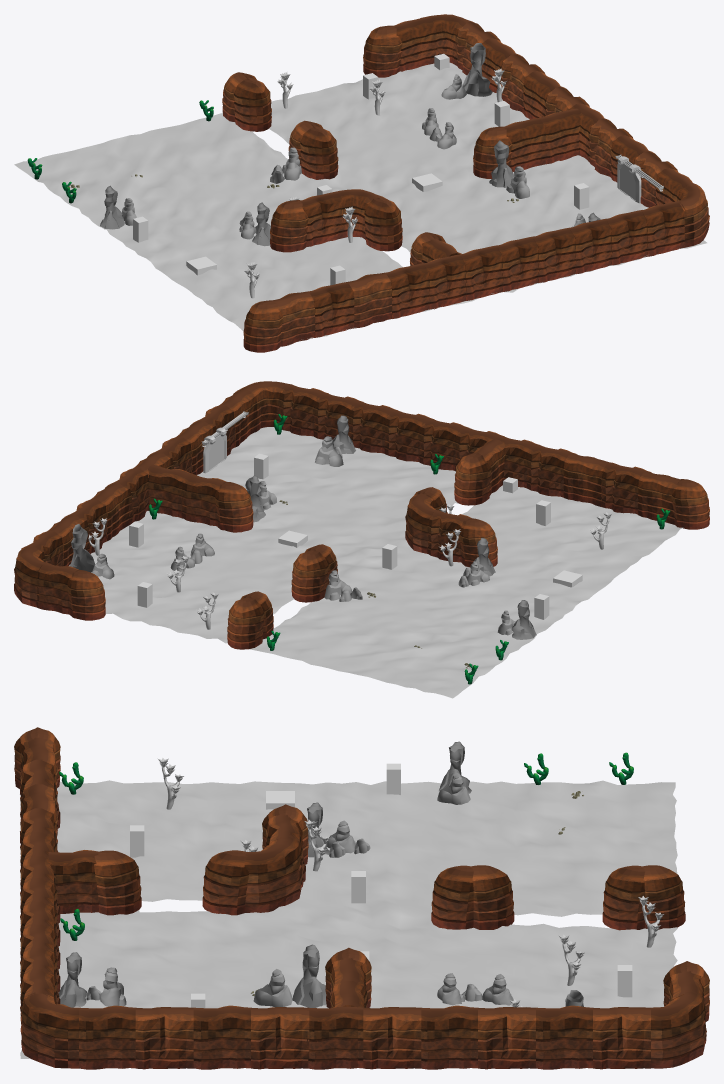
Rendered from Level1_Room1_Collapsed_2.fbx.
3 renders of one model, top to bottom at view 1: azimuth 30°, elevation 25°; view 2: azimuth 150°, elevation 25°; view 3: azimuth 270°, elevation 25°, orthographic. The views are drawn at different scales.
Visible parts, largest first — view 1: Plane074, level1_wall004, ColumnRock, GigaRock, MojaveTree, level1_door001, Lil_Cactus; view 2: Plane074, level1_wall004, GigaRock, ColumnRock, MojaveTree, Lil_Cactus, level1_door001, MiddleRock; view 3: Plane074, level1_wall004, GigaRock, ColumnRock, MojaveTree, Lil_Cactus, MiddleRock.
Part boxes in pixels (x1=…): Plane074: x1=14, y1=62, x2=706, y2=344; level1_wall004: x1=222, y1=14, x2=709, y2=352; ColumnRock: x1=100, y1=43, x2=600, y2=246; GigaRock: x1=122, y1=74, x2=585, y2=239; MojaveTree: x1=244, y1=68, x2=506, y2=298; level1_door001: x1=617, y1=156, x2=641, y2=203; Lil_Cactus: x1=27, y1=100, x2=213, y2=203; Plane074: x1=90, y1=427, x2=683, y2=698; level1_wall004: x1=14, y1=381, x2=709, y2=649; GigaRock: x1=92, y1=436, x2=515, y2=635; ColumnRock: x1=69, y1=415, x2=536, y2=639; MojaveTree: x1=88, y1=504, x2=611, y2=629; Lil_Cactus: x1=149, y1=414, x2=670, y2=684; level1_door001: x1=203, y1=427, x2=226, y2=473; MiddleRock: x1=190, y1=446, x2=470, y2=601; Plane074: x1=19, y1=780, x2=677, y2=1058; level1_wall004: x1=14, y1=727, x2=709, y2=1069; GigaRock: x1=100, y1=772, x2=513, y2=1007; ColumnRock: x1=58, y1=741, x2=583, y2=1007; MojaveTree: x1=158, y1=758, x2=664, y2=1007; Lil_Cactus: x1=59, y1=752, x2=633, y2=940; MiddleRock: x1=86, y1=838, x2=482, y2=1001.
Bounding box in the file's own units: 1911 × 239 × 1888.
